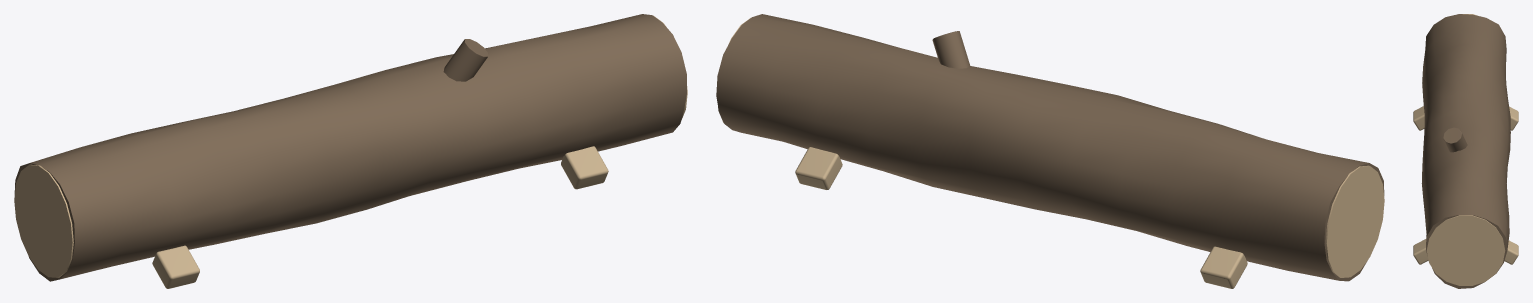
File: log.glb
3 renders of one model, left to right at view 1: azimuth 30°, elevation 25°; view 2: azimuth 150°, elevation 25°; view 3: azimuth 270°, elevation 25°, orthographic. The views are drawn at different scales.
Visible parts, largest first — view 1: SM_log; view 2: SM_log; view 3: SM_log.
Part boxes in pixels (<box>): SM_log: <box>14,14,687,288</box>; SM_log: <box>716,14,1384,288</box>; SM_log: <box>1413,14,1518,288</box>.
Size of the model in its own units: 2.41 by 0.559 by 0.5316.
